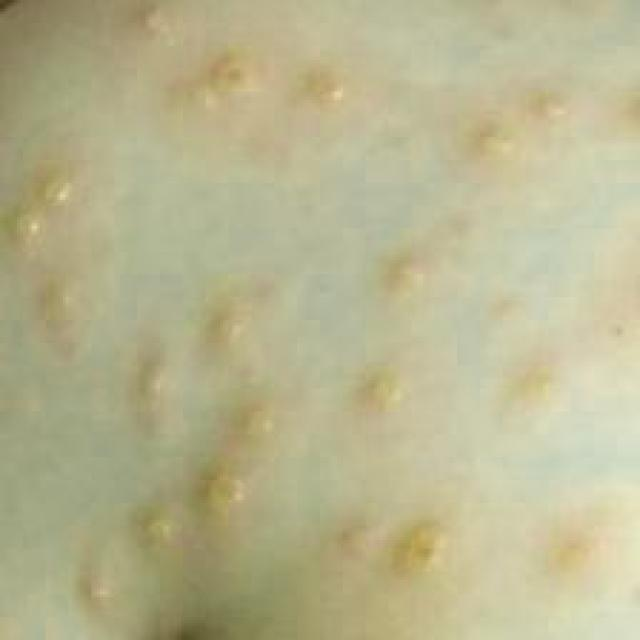others: (0, 0, 600, 589)
